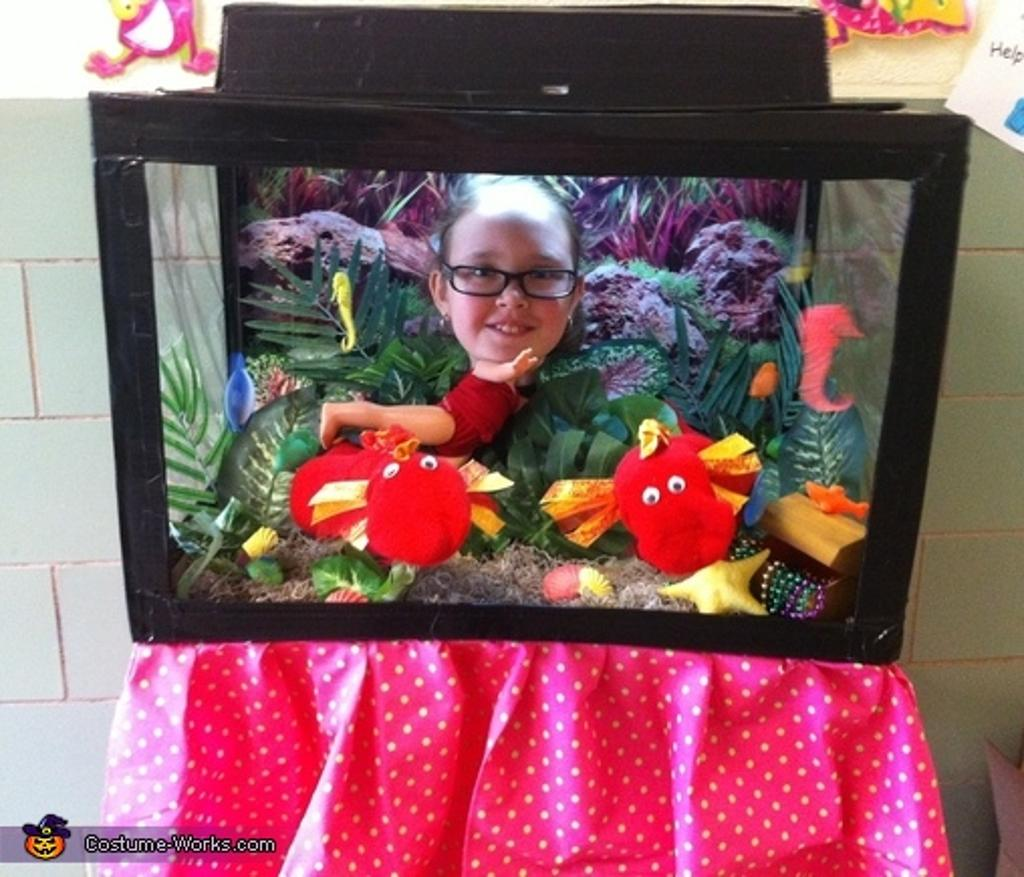face: (450, 230, 574, 358)
